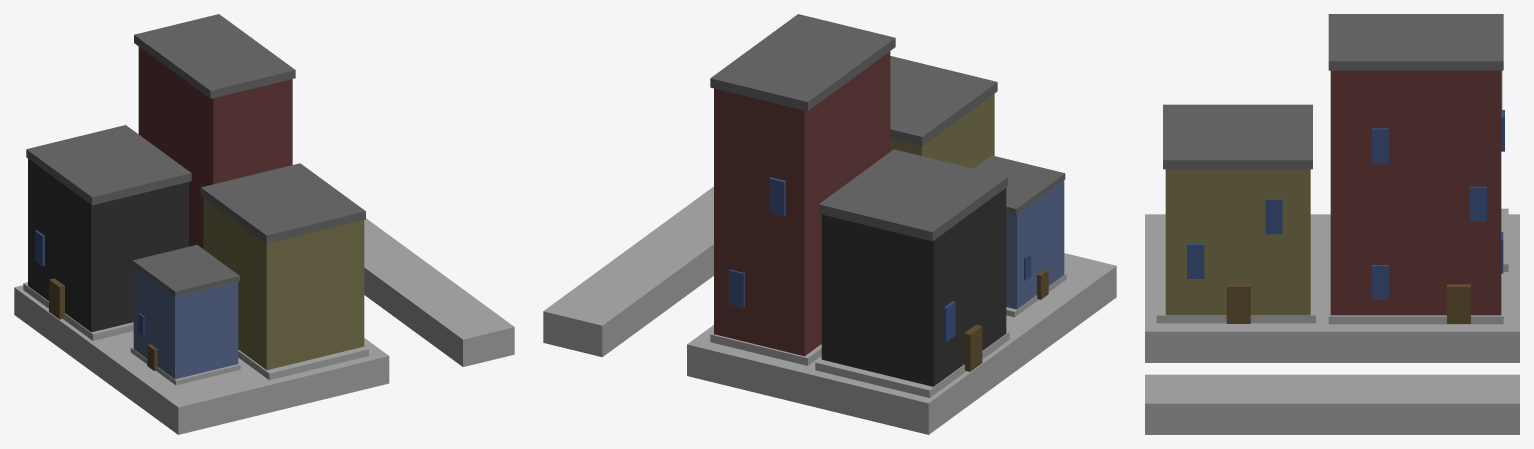
File: city.fbx
The picture shows the model from 3 angles, left to right: view 1: azimuth 30°, elevation 25°; view 2: azimuth 150°, elevation 25°; view 3: azimuth 270°, elevation 25°; orthographic projection. The views are drawn at different scales.
Visible parts, largest first — view 1: pasted__pCube2, pasted__pasted__pCube2, pCube1, pCube2, pasted__pCube1, pasted__pasted__pasted__pCube2, pasted__pCube4, pasted__pasted__pCube4, pCube3, pasted__pasted__pasted__pCube4, pasted__pasted__pCube3, pasted__pasted__pasted__pCube3 (+2 smaller); view 2: pCube2, pasted__pasted__pCube2, pCube1, pasted__pCube1, pasted__pasted__pCube4, pCube3, pasted__pCube4, pasted__pasted__pasted__pCube2, pasted__pCube2, pasted__pasted__pasted__pCube4, pasted__pasted__pasted__pCube3, pasted__pCube3 (+3 smaller); view 3: pCube2, pasted__pCube1, pCube1, pasted__pCube2, pCube3, pasted__pCube4, pasted__pasted__pCube3, pasted__pCube3, pCube4, pasted__pCube5, pasted__pasted__pCube5, pasted__pasted__pasted__pasted__pasted__pasted__pCube5 (+4 smaller).
Boxes of the visible parts, <box> form: pasted__pCube2: <box>203,197,364,370</box>; pasted__pasted__pCube2: <box>28,159,188,332</box>; pCube1: <box>14,285,389,434</box>; pCube2: <box>138,46,292,248</box>; pasted__pCube1: <box>364,218,514,366</box>; pasted__pasted__pasted__pCube2: <box>133,267,238,379</box>; pasted__pCube4: <box>200,163,365,243</box>; pasted__pasted__pCube4: <box>26,125,191,205</box>; pCube3: <box>134,14,295,98</box>; pasted__pasted__pasted__pCube4: <box>132,245,239,296</box>; pasted__pasted__pCube3: <box>238,346,368,380</box>; pasted__pasted__pasted__pCube3: <box>23,282,133,340</box>; pCube2: <box>714,51,890,356</box>; pasted__pasted__pCube2: <box>821,188,1006,386</box>; pCube1: <box>687,253,1116,434</box>; pasted__pCube1: <box>543,186,713,357</box>; pasted__pasted__pCube4: <box>818,149,1007,241</box>; pCube3: <box>710,14,895,111</box>; pasted__pCube4: <box>890,56,997,146</box>; pasted__pasted__pasted__pCube2: <box>1006,180,1064,309</box>; pasted__pCube2: <box>890,94,994,168</box>; pasted__pasted__pasted__pCube4: <box>973,155,1065,214</box>; pasted__pasted__pasted__pCube3: <box>815,331,1009,397</box>; pasted__pCube3: <box>710,332,821,365</box>; pCube2: <box>1330,70,1501,315</box>; pasted__pCube1: <box>1145,374,1519,434</box>; pCube1: <box>1145,214,1519,362</box>; pasted__pCube2: <box>1165,169,1310,315</box>; pCube3: <box>1328,14,1503,70</box>; pasted__pCube4: <box>1163,104,1312,169</box>; pasted__pasted__pCube3: <box>1156,260,1315,323</box>; pasted__pCube3: <box>1328,269,1503,324</box>; pCube4: <box>1226,284,1250,323</box>; pasted__pCube5: <box>1447,284,1470,323</box>; pasted__pasted__pCube5: <box>1265,199,1282,234</box>; pasted__pasted__pasted__pasted__pasted__pasted__pCube5: <box>1371,128,1388,163</box>.
Bounding box in the file's own units: 3.13 × 2.3 × 2.64.
